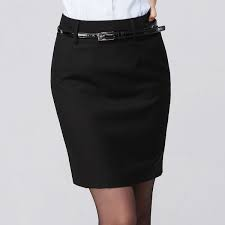F_tailored skirt: (45, 9, 185, 193)
